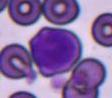L: (30, 27, 82, 75)
